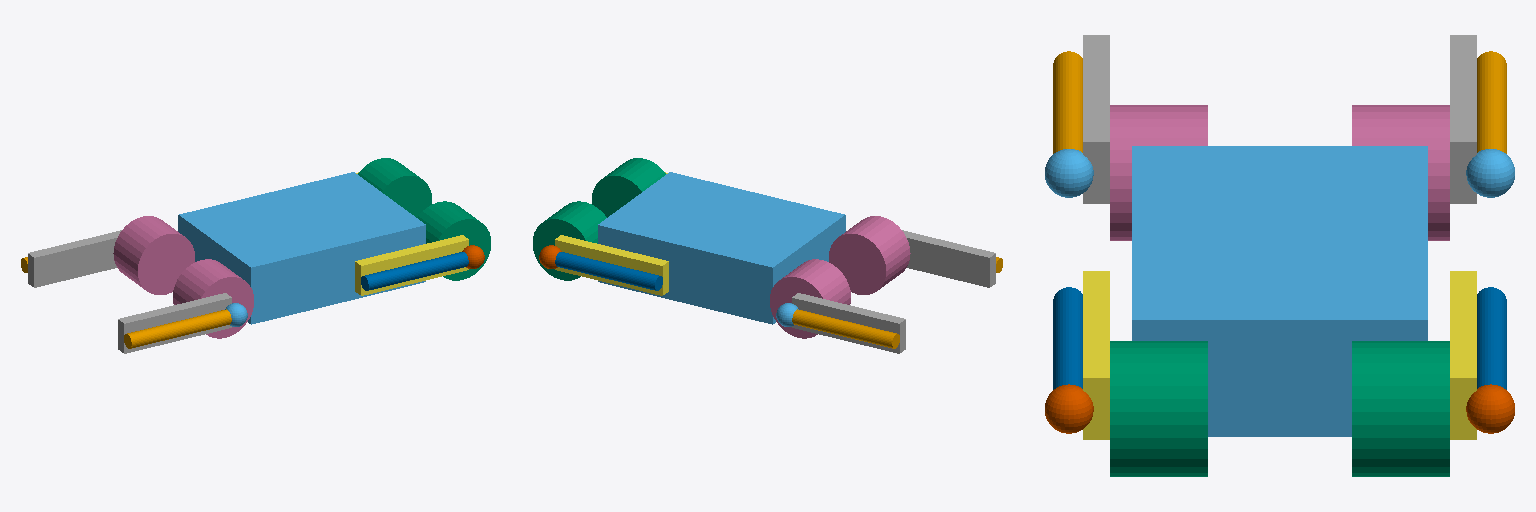
--- Facts derived from the render (not from the file) ---
Views: 3 orthographic renders of the robot side by side, from view 1: azimuth 30°, elevation 25°; view 2: azimuth 150°, elevation 25°; view 3: azimuth 270°, elevation 25°.
Robot: spirit — 18 links, 17 joints (12 revolute, 5 fixed); root link base; default pose: every joint at zero.
Visible links, largest first — view 1: body, hip1, upper1, hip3, hip2, upper2, upper3, hip0, lower3, lower2; view 2: body, hip3, upper3, hip1, hip0, upper0, upper1, hip2, lower1, lower0; view 3: body, hip0, hip2, hip1, hip3, upper0, upper2, upper1, upper3, lower1, lower3, lower0 (+5 smaller).
Link boxes in pixels (x1,y1,x2,y2): body: [178, 172, 425, 324]; hip1: [113, 216, 194, 294]; upper1: [28, 230, 121, 287]; hip3: [173, 259, 253, 338]; hip2: [417, 201, 490, 280]; upper2: [355, 235, 468, 295]; upper3: [118, 293, 231, 353]; hip0: [358, 158, 431, 217]; lower3: [124, 309, 231, 348]; lower2: [361, 252, 468, 290]; body: [598, 172, 845, 324]; hip3: [829, 216, 910, 294]; upper3: [902, 230, 995, 287]; hip1: [770, 259, 850, 338]; hip0: [533, 201, 606, 280]; upper0: [555, 235, 668, 295]; upper1: [792, 293, 905, 353]; hip2: [592, 158, 665, 217]; lower1: [792, 309, 899, 348]; lower0: [555, 252, 662, 290]; body: [1132, 146, 1427, 436]; hip0: [1352, 341, 1449, 476]; hip2: [1110, 341, 1207, 476]; hip1: [1352, 105, 1449, 240]; hip3: [1110, 105, 1207, 240]; upper0: [1450, 271, 1476, 439]; upper2: [1083, 271, 1109, 439]; upper1: [1450, 35, 1476, 203]; upper3: [1083, 35, 1109, 203]; lower1: [1477, 51, 1506, 153]; lower3: [1053, 51, 1082, 153]; lower0: [1477, 287, 1506, 389].
Size in the robot's own frame: 0.7136 by 0.382 by 0.11 metres.
Geometry: primitives only (box / cylinder / sphere), no mesh files.

URDF robot description (spirit):
<?xml version="1.0" encoding="utf-8"?>
<!-- =================================================================================== -->
<!-- |    This document was autogenerated by xacro from spirit_gazebo.urdf.xacro       | -->
<!-- |    EDITING THIS FILE BY HAND IS NOT RECOMMENDED                                 | -->
<!-- =================================================================================== -->
<!-- 
MIT License (modified)

Copyright (c) 2020 Ghost Robotics
Authors:
Avik De <[email redacted]>
Tom Jacobs <[email redacted]>

Permission is hereby granted, free of charge, to any person obtaining a copy
of this **file** (the "Software"), to deal
in the Software without restriction, including without limitation the rights
to use, copy, modify, merge, publish, distribute, sublicense, and/or sell
copies of the Software, and to permit persons to whom the Software is
furnished to do so, subject to the following conditions:

The above copyright notice and this permission notice shall be included in all
copies or substantial portions of the Software.

THE SOFTWARE IS PROVIDED "AS IS", WITHOUT WARRANTY OF ANY KIND, EXPRESS OR
IMPLIED, INCLUDING BUT NOT LIMITED TO THE WARRANTIES OF MERCHANTABILITY,
FITNESS FOR A PARTICULAR PURPOSE AND NONINFRINGEMENT. IN NO EVENT SHALL THE
AUTHORS OR COPYRIGHT HOLDERS BE LIABLE FOR ANY CLAIM, DAMAGES OR OTHER
LIABILITY, WHETHER IN AN ACTION OF CONTRACT, TORT OR OTHERWISE, ARISING FROM,
OUT OF OR IN CONNECTION WITH THE SOFTWARE OR THE USE OR OTHER DEALINGS IN THE
SOFTWARE. 
-->
<robot name="spirit">
  <link name="base"/>
  <joint name="base_body_joint" type="fixed">
    <parent link="base"/>
    <child link="body"/>
  </joint>
  <!-- Body -->
  <link name="body">
    <visual>
      <origin rpy="0 0 0" xyz="0 0 0"/>
      <geometry>
        <box size="0.335 0.24 0.104"/>
      </geometry>
      <material name="darkgray"/>
    </visual>
    <inertial>
      <mass value="5.75"/>
      <!-- Uniform box -->
      <!-- <inertia ixx="1/12*${bodyMass}*(${bodyWidth}*${bodyWidth} + ${bodyHeight}*${bodyHeight})"  ixy="0"  ixz="0" iyy="1/12*${bodyMass}*(${bodyLength}*${bodyLength} + ${bodyHeight}*${bodyHeight})" iyz="0" izz="1/12*${bodyMass}*(${bodyLength}*${bodyLength} + ${bodyWidth}*${bodyWidth})"/> -->
      <inertia ixx="0.05" ixy="0" ixz="0" iyy="0.1" iyz="0" izz="0.1"/>
    </inertial>
    <!-- Just copy geometry for collision -->
    <collision>
      <origin rpy="0 0 0" xyz="0 0 0"/>
      <geometry>
        <box size="0.335 0.24 0.104"/>
      </geometry>
    </collision>
  </link>
  <gazebo reference="body">
    <material>Gazebo/Black</material>
  </gazebo>
  <!-- Hip motor -->
  <link name="hip0">
    <visual>
      <origin rpy="1.5707963268 0 0" xyz="0 0.028 0"/>
      <geometry>
        <cylinder length="0.08" radius="0.055"/>
      </geometry>
    </visual>
    <collision>
      <origin rpy="1.5707963268 0 0" xyz="0 0.028 0"/>
      <geometry>
        <cylinder length="0.08" radius="0.055"/>
      </geometry>
    </collision>
    <inertial>
      <mass value="0.575"/>
      <!-- <inertia ixx="1/12*${podMass}*${podLength}*${podLength} + 1/4*${podMass}*${podRadius}*${podRadius}"  ixy="0"  ixz="0" iyy="1/12*${podMass}*${podLength}*${podLength} + 1/4*${podMass}*${podRadius}*${podRadius}" iyz="0" izz="1/2*${podMass}*${podRadius}*$
				{podRadius}" /> -->
      <inertia ixx="0.00066963541" ixy="0" ixz="0" iyy="0.00066963541" iyz="0" izz="0.0008696875"/>
    </inertial>
  </link>
  <gazebo reference="hip0">
    <material>Gazebo/Grey</material>
  </gazebo>
  <!-- Abduction joint. Joint names are: 8 9 10 11 -->
  <joint name="8" type="revolute">
    <parent link="body"/>
    <child link="hip0"/>
    <axis xyz="1 0 0"/>
    <origin xyz="0.2263 0.07 0"/>
    <limit effort="40" lower="-0.707" upper="0.707" velocity="30"/>
    <dynamics damping="0.0" friction="0.0"/>
  </joint>
  <!-- Transmission elements required for Gazebo -->
  <transmission name="transmission_8">
    <type>transmission_interface/SimpleTransmission</type>
    <joint name="8">
      <hardwareInterface>hardware_interface/EffortJointInterface</hardwareInterface>
    </joint>
    <actuator name="motor_8">
      <hardwareInterface>EffortJointInterface</hardwareInterface>
      <mechanicalReduction>1</mechanicalReduction>
    </actuator>
  </transmission>
  <!-- Upper leg -->
  <link name="upper0">
    <visual>
      <origin rpy="0 0 0" xyz="-0.103 -0.022 0"/>
      <geometry>
        <box size="0.206 0.022 0.055"/>
      </geometry>
      <material name="silver"/>
    </visual>
    <collision>
      <origin rpy="0 0 0" xyz="-0.103 -0.022 0"/>
      <geometry>
        <box size="0.206 0.022 0.055"/>
      </geometry>
    </collision>
    <inertial>
      <mass value="0.775"/>
      <inertia ixx="5e-05" ixy="0" ixz="0" iyy="0.001" iyz="0" izz="0.001"/>
    </inertial>
  </link>
  <gazebo reference="upper0">
    <material>Gazebo/DarkGrey</material>
  </gazebo>
  <!-- Hip joint. (Motor to upper leg). Joint names are: 0 2 4 6 -->
  <joint name="0" type="revolute">
    <parent link="hip0"/>
    <child link="upper0"/>
    <axis xyz="0 -1 0"/>
    <origin xyz="0 0.10098 0"/>
    <!--  rpy="0 -0.3 0" -->
    <limit effort="40" lower="-6.28318530718" upper="6.28318530718" velocity="30"/>
    <dynamics damping="0.0" friction="0.0"/>
  </joint>
  <!-- Transmission elements required for Gazebo -->
  <transmission name="transmission_0">
    <type>transmission_interface/SimpleTransmission</type>
    <joint name="0">
      <hardwareInterface>hardware_interface/EffortJointInterface</hardwareInterface>
    </joint>
    <actuator name="motor_0">
      <hardwareInterface>EffortJointInterface</hardwareInterface>
      <mechanicalReduction>1</mechanicalReduction>
    </actuator>
  </transmission>
  <!-- Lower leg -->
  <link name="lower0">
    <visual>
      <origin rpy="0 1.5707963268 0" xyz="0.103 0 0"/>
      <geometry>
        <cylinder length="0.206" radius="0.013"/>
      </geometry>
      <material name="darkgray"/>
    </visual>
    <collision>
      <origin rpy="0 1.5707963268 0" xyz="0.103 0 0"/>
      <geometry>
        <cylinder length="0.206" radius="0.013"/>
      </geometry>
    </collision>
    <inertial>
      <mass value="0.075"/>
      <inertia ixx="5e-06" ixy="0" ixz="0" iyy="0.0001" iyz="0" izz="0.0001"/>
    </inertial>
  </link>
  <gazebo reference="lower0">
    <material>Gazebo/Grey</material>
  </gazebo>
  <!-- Knee joint. Joint names are: 1 3 5 7 -->
  <joint name="1" type="revolute">
    <parent link="upper0"/>
    <child link="lower0"/>
    <axis xyz="0 1 0"/>
    <origin xyz="-0.206 0 0"/>
    <!--rpy="0 0.5 0"-->
    <limit effort="40" lower="0" upper="3.14159265359" velocity="30"/>
    <dynamics damping="0.0" friction="0.0"/>
  </joint>
  <!-- Transmission elements required for Gazebo -->
  <transmission name="transmission_1">
    <type>transmission_interface/SimpleTransmission</type>
    <joint name="1">
      <hardwareInterface>hardware_interface/EffortJointInterface</hardwareInterface>
    </joint>
    <actuator name="motor_1">
      <hardwareInterface>EffortJointInterface</hardwareInterface>
      <mechanicalReduction>1</mechanicalReduction>
    </actuator>
  </transmission>
  <!-- Toe -->
  <link name="toe0">
    <contact>
      <friction_anchor/>
      <stiffness value="30000.0"/>
      <damping value="1000.0"/>
      <spinning_friction value="0.3"/>
      <lateral_friction value="50.0"/>
    </contact>
    <visual>
      <origin rpy="0 0 0" xyz="0 0 0"/>
      <geometry>
        <sphere radius="0.02"/>
      </geometry>
      <material name="darkgray"/>
    </visual>
    <collision>
      <origin rpy="0 0 0" xyz="0 0 0"/>
      <geometry>
        <sphere radius="0.02"/>
      </geometry>
    </collision>
    <inertial>
      <mass value="0.015"/>
      <inertia ixx="0.000025" ixy="0" ixz="0" iyy="0.000025" iyz="0" izz="0.000025"/>
      <!-- <inertia ixx="2/5*${toeMass}*${toeRadius}*${toeRadius}"  ixy="0"  ixz="0" iyy="2/5*${toeMass}*${toeRadius}*${toeRadius}" iyz="0" izz="2/5*${toeMass}*${toeRadius}*${toeRadius}" /> -->
    </inertial>
  </link>
  <gazebo reference="toe0">
    <material>Gazebo/Black</material>
    <collision>
      <surface>
        <bounce>
          <restitution_coefficient>0</restitution_coefficient>
          <threshold>1e+06</threshold>
        </bounce>
        <friction>
          <torsional>
            <coefficient>0.3</coefficient>
          </torsional>
          <ode>
            <mu>100.0</mu>
            <mu2>50.0</mu2>
          </ode>
          <bullet>
            <rolling_friction>0.3</rolling_friction>
            <friction2>50.0</friction2>
          </bullet>
        </friction>
        <contact>
          <bullet>
            <kp>30000.0</kp>
            <kd>1000.0</kd>
          </bullet>
          <ode>
            <kp>30000.0</kp>
            <kd>1000.0</kd>
          </ode>
        </contact>
      </surface>
    </collision>
  </gazebo>
  <joint name="jtoe0" type="fixed">
    <parent link="lower0"/>
    <child link="toe0"/>
    <origin xyz="0.206 0 -0.0"/>
    <dynamics damping="0.0" friction="0.0"/>
  </joint>
  <!-- Hip motor -->
  <link name="hip1">
    <visual>
      <origin rpy="1.5707963268 0 0" xyz="0 0.028 0"/>
      <geometry>
        <cylinder length="0.08" radius="0.055"/>
      </geometry>
    </visual>
    <collision>
      <origin rpy="1.5707963268 0 0" xyz="0 0.028 0"/>
      <geometry>
        <cylinder length="0.08" radius="0.055"/>
      </geometry>
    </collision>
    <inertial>
      <mass value="0.575"/>
      <!-- <inertia ixx="1/12*${podMass}*${podLength}*${podLength} + 1/4*${podMass}*${podRadius}*${podRadius}"  ixy="0"  ixz="0" iyy="1/12*${podMass}*${podLength}*${podLength} + 1/4*${podMass}*${podRadius}*${podRadius}" iyz="0" izz="1/2*${podMass}*${podRadius}*$
				{podRadius}" /> -->
      <inertia ixx="0.00066963541" ixy="0" ixz="0" iyy="0.00066963541" iyz="0" izz="0.0008696875"/>
    </inertial>
  </link>
  <gazebo reference="hip1">
    <material>Gazebo/Grey</material>
  </gazebo>
  <!-- Abduction joint. Joint names are: 8 9 10 11 -->
  <joint name="9" type="revolute">
    <parent link="body"/>
    <child link="hip1"/>
    <axis xyz="1 0 0"/>
    <origin xyz="-0.2263 0.07 0"/>
    <limit effort="40" lower="-0.707" upper="0.707" velocity="30"/>
    <dynamics damping="0.0" friction="0.0"/>
  </joint>
  <!-- Transmission elements required for Gazebo -->
  <transmission name="transmission_9">
    <type>transmission_interface/SimpleTransmission</type>
    <joint name="9">
      <hardwareInterface>hardware_interface/EffortJointInterface</hardwareInterface>
    </joint>
    <actuator name="motor_9">
      <hardwareInterface>EffortJointInterface</hardwareInterface>
      <mechanicalReduction>1</mechanicalReduction>
    </actuator>
  </transmission>
  <!-- Upper leg -->
  <link name="upper1">
    <visual>
      <origin rpy="0 0 0" xyz="-0.103 -0.022 0"/>
      <geometry>
        <box size="0.206 0.022 0.055"/>
      </geometry>
      <material name="silver"/>
    </visual>
    <collision>
      <origin rpy="0 0 0" xyz="-0.103 -0.022 0"/>
      <geometry>
        <box size="0.206 0.022 0.055"/>
      </geometry>
    </collision>
    <inertial>
      <mass value="0.775"/>
      <inertia ixx="5e-05" ixy="0" ixz="0" iyy="0.001" iyz="0" izz="0.001"/>
    </inertial>
  </link>
  <gazebo reference="upper1">
    <material>Gazebo/DarkGrey</material>
  </gazebo>
  <!-- Hip joint. (Motor to upper leg). Joint names are: 0 2 4 6 -->
  <joint name="2" type="revolute">
    <parent link="hip1"/>
    <child link="upper1"/>
    <axis xyz="0 -1 0"/>
    <origin xyz="0 0.10098 0"/>
    <!--  rpy="0 -0.3 0" -->
    <limit effort="40" lower="-6.28318530718" upper="6.28318530718" velocity="30"/>
    <dynamics damping="0.0" friction="0.0"/>
  </joint>
  <!-- Transmission elements required for Gazebo -->
  <transmission name="transmission_2">
    <type>transmission_interface/SimpleTransmission</type>
    <joint name="2">
      <hardwareInterface>hardware_interface/EffortJointInterface</hardwareInterface>
    </joint>
    <actuator name="motor_2">
      <hardwareInterface>EffortJointInterface</hardwareInterface>
      <mechanicalReduction>1</mechanicalReduction>
    </actuator>
  </transmission>
  <!-- Lower leg -->
  <link name="lower1">
    <visual>
      <origin rpy="0 1.5707963268 0" xyz="0.103 0 0"/>
      <geometry>
        <cylinder length="0.206" radius="0.013"/>
      </geometry>
      <material name="darkgray"/>
    </visual>
    <collision>
      <origin rpy="0 1.5707963268 0" xyz="0.103 0 0"/>
      <geometry>
        <cylinder length="0.206" radius="0.013"/>
      </geometry>
    </collision>
    <inertial>
      <mass value="0.075"/>
      <inertia ixx="5e-06" ixy="0" ixz="0" iyy="0.0001" iyz="0" izz="0.0001"/>
    </inertial>
  </link>
  <gazebo reference="lower1">
    <material>Gazebo/Grey</material>
  </gazebo>
  <!-- Knee joint. Joint names are: 1 3 5 7 -->
  <joint name="3" type="revolute">
    <parent link="upper1"/>
    <child link="lower1"/>
    <axis xyz="0 1 0"/>
    <origin xyz="-0.206 0 0"/>
    <!--rpy="0 0.5 0"-->
    <limit effort="40" lower="0" upper="3.14159265359" velocity="30"/>
    <dynamics damping="0.0" friction="0.0"/>
  </joint>
  <!-- Transmission elements required for Gazebo -->
  <transmission name="transmission_3">
    <type>transmission_interface/SimpleTransmission</type>
    <joint name="3">
      <hardwareInterface>hardware_interface/EffortJointInterface</hardwareInterface>
    </joint>
    <actuator name="motor_3">
      <hardwareInterface>EffortJointInterface</hardwareInterface>
      <mechanicalReduction>1</mechanicalReduction>
    </actuator>
  </transmission>
  <!-- Toe -->
  <link name="toe1">
    <contact>
      <friction_anchor/>
      <stiffness value="30000.0"/>
      <damping value="1000.0"/>
      <spinning_friction value="0.3"/>
      <lateral_friction value="50.0"/>
    </contact>
    <visual>
      <origin rpy="0 0 0" xyz="0 0 0"/>
      <geometry>
        <sphere radius="0.02"/>
      </geometry>
      <material name="darkgray"/>
    </visual>
    <collision>
      <origin rpy="0 0 0" xyz="0 0 0"/>
      <geometry>
        <sphere radius="0.02"/>
      </geometry>
    </collision>
    <inertial>
      <mass value="0.015"/>
      <inertia ixx="0.000025" ixy="0" ixz="0" iyy="0.000025" iyz="0" izz="0.000025"/>
      <!-- <inertia ixx="2/5*${toeMass}*${toeRadius}*${toeRadius}"  ixy="0"  ixz="0" iyy="2/5*${toeMass}*${toeRadius}*${toeRadius}" iyz="0" izz="2/5*${toeMass}*${toeRadius}*${toeRadius}" /> -->
    </inertial>
  </link>
  <gazebo reference="toe1">
    <material>Gazebo/Black</material>
    <collision>
      <surface>
        <bounce>
          <restitution_coefficient>0</restitution_coefficient>
          <threshold>1e+06</threshold>
        </bounce>
        <friction>
          <torsional>
            <coefficient>0.3</coefficient>
          </torsional>
          <ode>
            <mu>100.0</mu>
            <mu2>50.0</mu2>
          </ode>
          <bullet>
            <rolling_friction>0.3</rolling_friction>
            <friction2>50.0</friction2>
          </bullet>
        </friction>
        <contact>
          <bullet>
            <kp>30000.0</kp>
            <kd>1000.0</kd>
          </bullet>
          <ode>
            <kp>30000.0</kp>
            <kd>1000.0</kd>
          </ode>
        </contact>
      </surface>
    </collision>
  </gazebo>
  <joint name="jtoe1" type="fixed">
    <parent link="lower1"/>
    <child link="toe1"/>
    <origin xyz="0.206 0 -0.0"/>
    <dynamics damping="0.0" friction="0.0"/>
  </joint>
  <!-- Hip motor -->
  <link name="hip2">
    <visual>
      <origin rpy="1.5707963268 0 0" xyz="0 -0.028 0"/>
      <geometry>
        <cylinder length="0.08" radius="0.055"/>
      </geometry>
    </visual>
    <collision>
      <origin rpy="1.5707963268 0 0" xyz="0 -0.028 0"/>
      <geometry>
        <cylinder length="0.08" radius="0.055"/>
      </geometry>
    </collision>
    <inertial>
      <mass value="0.575"/>
      <!-- <inertia ixx="1/12*${podMass}*${podLength}*${podLength} + 1/4*${podMass}*${podRadius}*${podRadius}"  ixy="0"  ixz="0" iyy="1/12*${podMass}*${podLength}*${podLength} + 1/4*${podMass}*${podRadius}*${podRadius}" iyz="0" izz="1/2*${podMass}*${podRadius}*$
				{podRadius}" /> -->
      <inertia ixx="0.00066963541" ixy="0" ixz="0" iyy="0.00066963541" iyz="0" izz="0.0008696875"/>
    </inertial>
  </link>
  <gazebo reference="hip2">
    <material>Gazebo/Grey</material>
  </gazebo>
  <!-- Abduction joint. Joint names are: 8 9 10 11 -->
  <joint name="10" type="revolute">
    <parent link="body"/>
    <child link="hip2"/>
    <axis xyz="1 0 0"/>
    <origin xyz="0.2263 -0.07 0"/>
    <limit effort="40" lower="-0.707" upper="0.707" velocity="30"/>
    <dynamics damping="0.0" friction="0.0"/>
  </joint>
  <!-- Transmission elements required for Gazebo -->
  <transmission name="transmission_10">
    <type>transmission_interface/SimpleTransmission</type>
    <joint name="10">
      <hardwareInterface>hardware_interface/EffortJointInterface</hardwareInterface>
    </joint>
    <actuator name="motor_10">
      <hardwareInterface>EffortJointInterface</hardwareInterface>
      <mechanicalReduction>1</mechanicalReduction>
    </actuator>
  </transmission>
  <!-- Upper leg -->
  <link name="upper2">
    <visual>
      <origin rpy="0 0 0" xyz="-0.103 0.022 0"/>
      <geometry>
        <box size="0.206 0.022 0.055"/>
      </geometry>
      <material name="silver"/>
    </visual>
    <collision>
      <origin rpy="0 0 0" xyz="-0.103 0.022 0"/>
      <geometry>
        <box size="0.206 0.022 0.055"/>
      </geometry>
    </collision>
    <inertial>
      <mass value="0.775"/>
      <inertia ixx="5e-05" ixy="0" ixz="0" iyy="0.001" iyz="0" izz="0.001"/>
    </inertial>
  </link>
  <gazebo reference="upper2">
    <material>Gazebo/DarkGrey</material>
  </gazebo>
  <!-- Hip joint. (Motor to upper leg). Joint names are: 0 2 4 6 -->
  <joint name="4" type="revolute">
    <parent link="hip2"/>
    <child link="upper2"/>
    <axis xyz="0 -1 0"/>
    <origin xyz="0 -0.10098 0"/>
    <!--  rpy="0 -0.3 0" -->
    <limit effort="40" lower="-6.28318530718" upper="6.28318530718" velocity="30"/>
    <dynamics damping="0.0" friction="0.0"/>
  </joint>
  <!-- Transmission elements required for Gazebo -->
  <transmission name="transmission_4">
    <type>transmission_interface/SimpleTransmission</type>
    <joint name="4">
      <hardwareInterface>hardware_interface/EffortJointInterface</hardwareInterface>
    </joint>
    <actuator name="motor_4">
      <hardwareInterface>EffortJointInterface</hardwareInterface>
      <mechanicalReduction>1</mechanicalReduction>
    </actuator>
  </transmission>
  <!-- Lower leg -->
  <link name="lower2">
    <visual>
      <origin rpy="0 1.5707963268 0" xyz="0.103 0 0"/>
      <geometry>
        <cylinder length="0.206" radius="0.013"/>
      </geometry>
      <material name="darkgray"/>
    </visual>
    <collision>
      <origin rpy="0 1.5707963268 0" xyz="0.103 0 0"/>
      <geometry>
        <cylinder length="0.206" radius="0.013"/>
      </geometry>
    </collision>
    <inertial>
      <mass value="0.075"/>
      <inertia ixx="5e-06" ixy="0" ixz="0" iyy="0.0001" iyz="0" izz="0.0001"/>
    </inertial>
  </link>
  <gazebo reference="lower2">
    <material>Gazebo/Grey</material>
  </gazebo>
  <!-- Knee joint. Joint names are: 1 3 5 7 -->
  <joint name="5" type="revolute">
    <parent link="upper2"/>
    <child link="lower2"/>
    <axis xyz="0 1 0"/>
    <origin xyz="-0.206 0 0"/>
    <!--rpy="0 0.5 0"-->
    <limit effort="40" lower="0" upper="3.14159265359" velocity="30"/>
    <dynamics damping="0.0" friction="0.0"/>
  </joint>
  <!-- Transmission elements required for Gazebo -->
  <transmission name="transmission_5">
    <type>transmission_interface/SimpleTransmission</type>
    <joint name="5">
      <hardwareInterface>hardware_interface/EffortJointInterface</hardwareInterface>
    </joint>
    <actuator name="motor_5">
      <hardwareInterface>EffortJointInterface</hardwareInterface>
      <mechanicalReduction>1</mechanicalReduction>
    </actuator>
  </transmission>
  <!-- Toe -->
  <link name="toe2">
    <contact>
      <friction_anchor/>
      <stiffness value="30000.0"/>
      <damping value="1000.0"/>
      <spinning_friction value="0.3"/>
      <lateral_friction value="50.0"/>
    </contact>
    <visual>
      <origin rpy="0 0 0" xyz="0 0 0"/>
      <geometry>
        <sphere radius="0.02"/>
      </geometry>
      <material name="darkgray"/>
    </visual>
    <collision>
      <origin rpy="0 0 0" xyz="0 0 0"/>
      <geometry>
        <sphere radius="0.02"/>
      </geometry>
    </collision>
    <inertial>
      <mass value="0.015"/>
      <inertia ixx="0.000025" ixy="0" ixz="0" iyy="0.000025" iyz="0" izz="0.000025"/>
      <!-- <inertia ixx="2/5*${toeMass}*${toeRadius}*${toeRadius}"  ixy="0"  ixz="0" iyy="2/5*${toeMass}*${toeRadius}*${toeRadius}" iyz="0" izz="2/5*${toeMass}*${toeRadius}*${toeRadius}" /> -->
    </inertial>
  </link>
  <gazebo reference="toe2">
    <material>Gazebo/Black</material>
    <collision>
      <surface>
        <bounce>
          <restitution_coefficient>0</restitution_coefficient>
          <threshold>1e+06</threshold>
        </bounce>
        <friction>
          <torsional>
            <coefficient>0.3</coefficient>
          </torsional>
          <ode>
            <mu>100.0</mu>
            <mu2>50.0</mu2>
          </ode>
          <bullet>
            <rolling_friction>0.3</rolling_friction>
            <friction2>50.0</friction2>
          </bullet>
        </friction>
        <contact>
          <bullet>
            <kp>30000.0</kp>
            <kd>1000.0</kd>
          </bullet>
          <ode>
            <kp>30000.0</kp>
            <kd>1000.0</kd>
          </ode>
        </contact>
      </surface>
    </collision>
  </gazebo>
  <joint name="jtoe2" type="fixed">
    <parent link="lower2"/>
    <child link="toe2"/>
    <origin xyz="0.206 0 -0.0"/>
    <dynamics damping="0.0" friction="0.0"/>
  </joint>
  <!-- Hip motor -->
  <link name="hip3">
    <visual>
      <origin rpy="1.5707963268 0 0" xyz="0 -0.028 0"/>
      <geometry>
        <cylinder length="0.08" radius="0.055"/>
      </geometry>
    </visual>
    <collision>
      <origin rpy="1.5707963268 0 0" xyz="0 -0.028 0"/>
      <geometry>
        <cylinder length="0.08" radius="0.055"/>
      </geometry>
    </collision>
    <inertial>
      <mass value="0.575"/>
      <!-- <inertia ixx="1/12*${podMass}*${podLength}*${podLength} + 1/4*${podMass}*${podRadius}*${podRadius}"  ixy="0"  ixz="0" iyy="1/12*${podMass}*${podLength}*${podLength} + 1/4*${podMass}*${podRadius}*${podRadius}" iyz="0" izz="1/2*${podMass}*${podRadius}*$
				{podRadius}" /> -->
      <inertia ixx="0.00066963541" ixy="0" ixz="0" iyy="0.00066963541" iyz="0" izz="0.0008696875"/>
    </inertial>
  </link>
  <gazebo reference="hip3">
    <material>Gazebo/Grey</material>
  </gazebo>
  <!-- Abduction joint. Joint names are: 8 9 10 11 -->
  <joint name="11" type="revolute">
    <parent link="body"/>
    <child link="hip3"/>
    <axis xyz="1 0 0"/>
    <origin xyz="-0.2263 -0.07 0"/>
    <limit effort="40" lower="-0.707" upper="0.707" velocity="30"/>
    <dynamics damping="0.0" friction="0.0"/>
  </joint>
  <!-- Transmission elements required for Gazebo -->
  <transmission name="transmission_11">
    <type>transmission_interface/SimpleTransmission</type>
    <joint name="11">
      <hardwareInterface>hardware_interface/EffortJointInterface</hardwareInterface>
    </joint>
    <actuator name="motor_11">
      <hardwareInterface>EffortJointInterface</hardwareInterface>
      <mechanicalReduction>1</mechanicalReduction>
    </actuator>
  </transmission>
  <!-- Upper leg -->
  <link name="upper3">
    <visual>
      <origin rpy="0 0 0" xyz="-0.103 0.022 0"/>
      <geometry>
        <box size="0.206 0.022 0.055"/>
      </geometry>
      <material name="silver"/>
    </visual>
    <collision>
      <origin rpy="0 0 0" xyz="-0.103 0.022 0"/>
      <geometry>
        <box size="0.206 0.022 0.055"/>
      </geometry>
    </collision>
    <inertial>
      <mass value="0.775"/>
      <inertia ixx="5e-05" ixy="0" ixz="0" iyy="0.001" iyz="0" izz="0.001"/>
    </inertial>
  </link>
  <gazebo reference="upper3">
    <material>Gazebo/DarkGrey</material>
  </gazebo>
  <!-- Hip joint. (Motor to upper leg). Joint names are: 0 2 4 6 -->
  <joint name="6" type="revolute">
    <parent link="hip3"/>
    <child link="upper3"/>
    <axis xyz="0 -1 0"/>
    <origin xyz="0 -0.10098 0"/>
    <!--  rpy="0 -0.3 0" -->
    <limit effort="40" lower="-6.28318530718" upper="6.28318530718" velocity="30"/>
    <dynamics damping="0.0" friction="0.0"/>
  </joint>
  <!-- Transmission elements required for Gazebo -->
  <transmission name="transmission_6">
    <type>transmission_interface/SimpleTransmission</type>
    <joint name="6">
      <hardwareInterface>hardware_interface/EffortJointInterface</hardwareInterface>
    </joint>
    <actuator name="motor_6">
      <hardwareInterface>EffortJointInterface</hardwareInterface>
      <mechanicalReduction>1</mechanicalReduction>
    </actuator>
  </transmission>
  <!-- Lower leg -->
  <link name="lower3">
    <visual>
      <origin rpy="0 1.5707963268 0" xyz="0.103 0 0"/>
      <geometry>
        <cylinder length="0.206" radius="0.013"/>
      </geometry>
      <material name="darkgray"/>
    </visual>
    <collision>
      <origin rpy="0 1.5707963268 0" xyz="0.103 0 0"/>
      <geometry>
        <cylinder length="0.206" radius="0.013"/>
      </geometry>
    </collision>
    <inertial>
      <mass value="0.075"/>
      <inertia ixx="5e-06" ixy="0" ixz="0" iyy="0.0001" iyz="0" izz="0.0001"/>
    </inertial>
  </link>
  <gazebo reference="lower3">
    <material>Gazebo/Grey</material>
  </gazebo>
  <!-- Knee joint. Joint names are: 1 3 5 7 -->
  <joint name="7" type="revolute">
    <parent link="upper3"/>
    <child link="lower3"/>
    <axis xyz="0 1 0"/>
    <origin xyz="-0.206 0 0"/>
    <!--rpy="0 0.5 0"-->
    <limit effort="40" lower="0" upper="3.14159265359" velocity="30"/>
    <dynamics damping="0.0" friction="0.0"/>
  </joint>
  <!-- Transmission elements required for Gazebo -->
  <transmission name="transmission_7">
    <type>transmission_interface/SimpleTransmission</type>
    <joint name="7">
      <hardwareInterface>hardware_interface/EffortJointInterface</hardwareInterface>
    </joint>
    <actuator name="motor_7">
      <hardwareInterface>EffortJointInterface</hardwareInterface>
      <mechanicalReduction>1</mechanicalReduction>
    </actuator>
  </transmission>
  <!-- Toe -->
  <link name="toe3">
    <contact>
      <friction_anchor/>
      <stiffness value="30000.0"/>
      <damping value="1000.0"/>
      <spinning_friction value="0.3"/>
      <lateral_friction value="50.0"/>
    </contact>
    <visual>
      <origin rpy="0 0 0" xyz="0 0 0"/>
      <geometry>
        <sphere radius="0.02"/>
      </geometry>
      <material name="darkgray"/>
    </visual>
    <collision>
      <origin rpy="0 0 0" xyz="0 0 0"/>
      <geometry>
        <sphere radius="0.02"/>
      </geometry>
    </collision>
    <inertial>
      <mass value="0.015"/>
      <inertia ixx="0.000025" ixy="0" ixz="0" iyy="0.000025" iyz="0" izz="0.000025"/>
      <!-- <inertia ixx="2/5*${toeMass}*${toeRadius}*${toeRadius}"  ixy="0"  ixz="0" iyy="2/5*${toeMass}*${toeRadius}*${toeRadius}" iyz="0" izz="2/5*${toeMass}*${toeRadius}*${toeRadius}" /> -->
    </inertial>
  </link>
  <gazebo reference="toe3">
    <material>Gazebo/Black</material>
    <collision>
      <surface>
        <bounce>
          <restitution_coefficient>0</restitution_coefficient>
          <threshold>1e+06</threshold>
        </bounce>
        <friction>
          <torsional>
            <coefficient>0.3</coefficient>
          </torsional>
          <ode>
            <mu>100.0</mu>
            <mu2>50.0</mu2>
          </ode>
          <bullet>
            <rolling_friction>0.3</rolling_friction>
            <friction2>50.0</friction2>
          </bullet>
        </friction>
        <contact>
          <bullet>
            <kp>30000.0</kp>
            <kd>1000.0</kd>
          </bullet>
          <ode>
            <kp>30000.0</kp>
            <kd>1000.0</kd>
          </ode>
        </contact>
      </surface>
    </collision>
  </gazebo>
  <joint name="jtoe3" type="fixed">
    <parent link="lower3"/>
    <child link="toe3"/>
    <origin xyz="0.206 0 -0.0"/>
    <dynamics damping="0.0" friction="0.0"/>
  </joint>
  <!-- Add ros_control plugin -->
  <gazebo>
    <plugin filename="libgazebo_ros_control.so" name="gazebo_ros_control">
      <robotNamespace>/spirit</robotNamespace>
    </plugin>
  </gazebo>
</robot>
